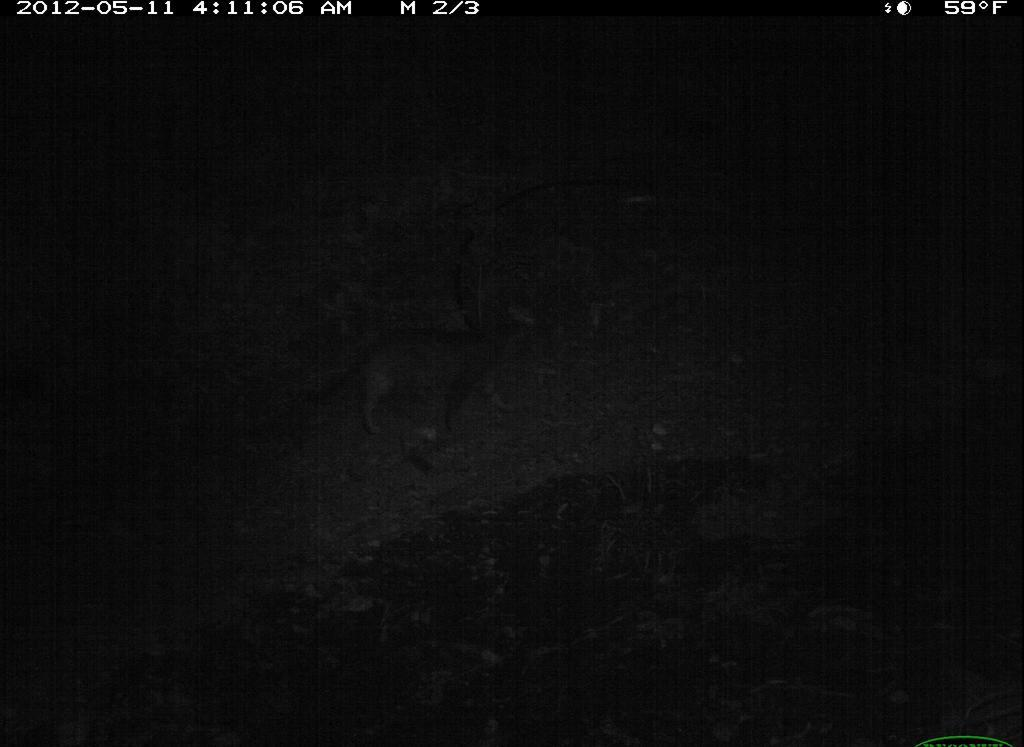cat: (295, 299, 556, 452)
